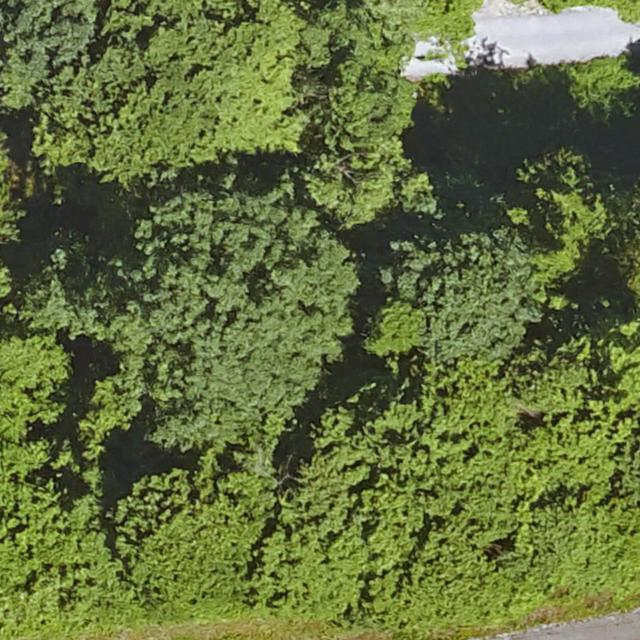tree: (285, 384, 557, 622), (134, 188, 355, 441), (1, 0, 313, 174), (1, 329, 122, 618), (372, 226, 540, 373), (125, 470, 261, 618), (314, 15, 415, 188)
